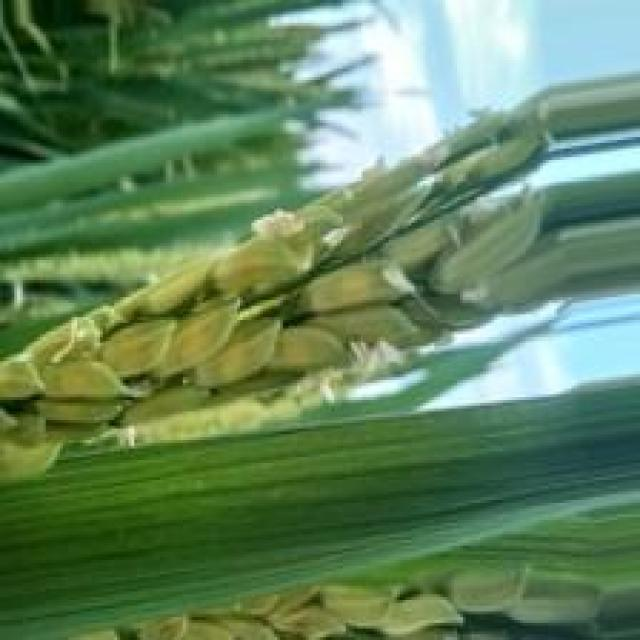HealthyLeaf: (5, 391, 639, 616)
